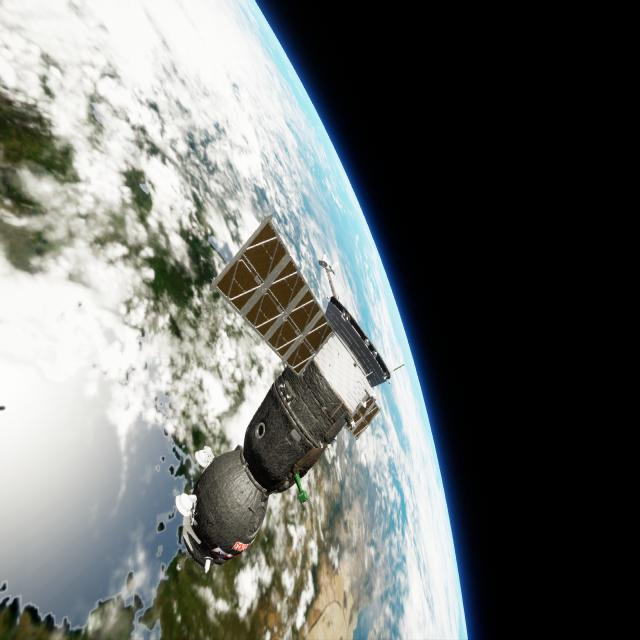Satellites revolving around earth: (2, 1, 470, 638), (176, 212, 392, 574)
